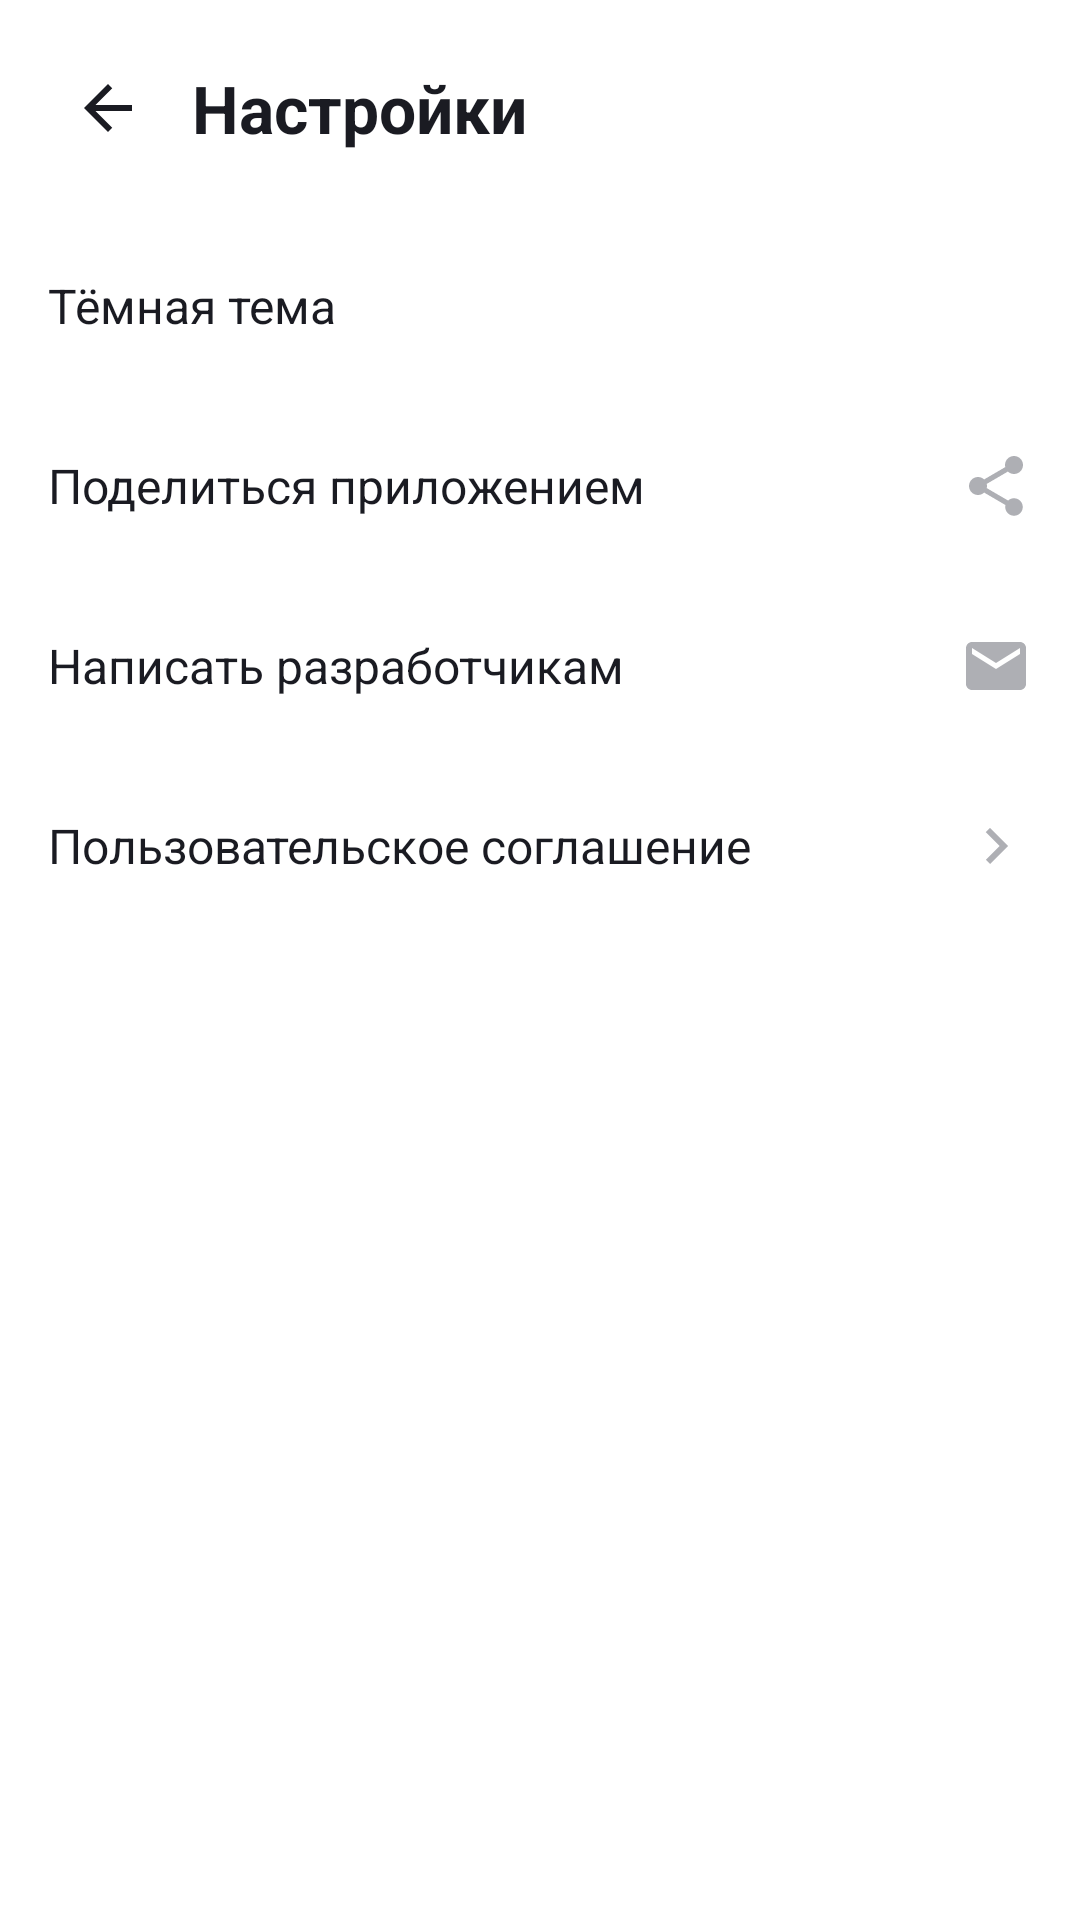

Where to tap for icons on this 1080×1920 app screen, as (x=x, y=y):
arrow forward: (x=997, y=846)
share: (x=996, y=486)
support: (x=996, y=666)
Назад: (x=108, y=108)
